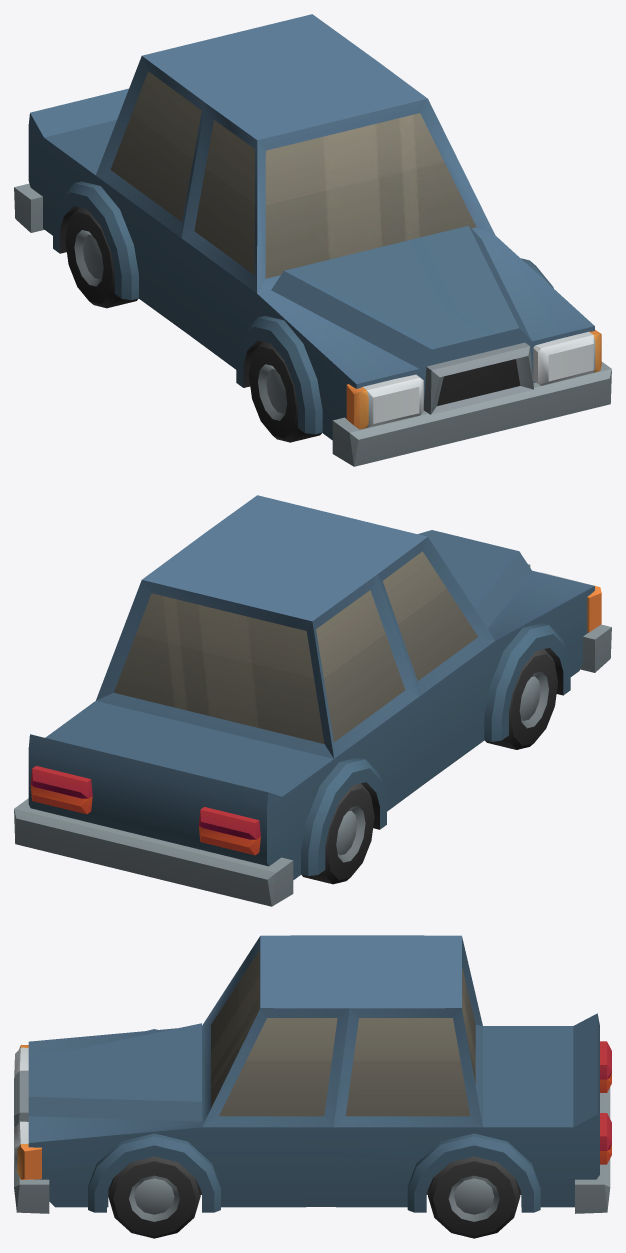
File: car-sedan.glb
3 views of the same model, one above another, from view 1: azimuth 30°, elevation 25°; view 2: azimuth 150°, elevation 25°; view 3: azimuth 270°, elevation 25° (orthographic). The views are drawn at different scales.
Visible parts, largest first — view 1: car_sedan, car_sedan_wheel_rear_right, car_sedan_wheel_front_right; view 2: car_sedan, car_sedan_wheel_rear_right, car_sedan_wheel_front_right; view 3: car_sedan, car_sedan_wheel_front_left, car_sedan_wheel_rear_left.
Part boxes in pixels (<box>): car_sedan: <box>14,14,611,466</box>; car_sedan_wheel_rear_right: <box>65,207,138,308</box>; car_sedan_wheel_front_right: <box>249,341,321,442</box>; car_sedan: <box>14,495,611,906</box>; car_sedan_wheel_rear_right: <box>301,783,374,884</box>; car_sedan_wheel_front_right: <box>485,649,557,749</box>; car_sedan: <box>14,935,611,1213</box>; car_sedan_wheel_front_left: <box>108,1156,200,1238</box>; car_sedan_wheel_rear_left: <box>428,1156,520,1238</box>.
Bounding box in the file's own units: 0.419 × 0.3688 × 0.9381.
1 material, 1 textured.
